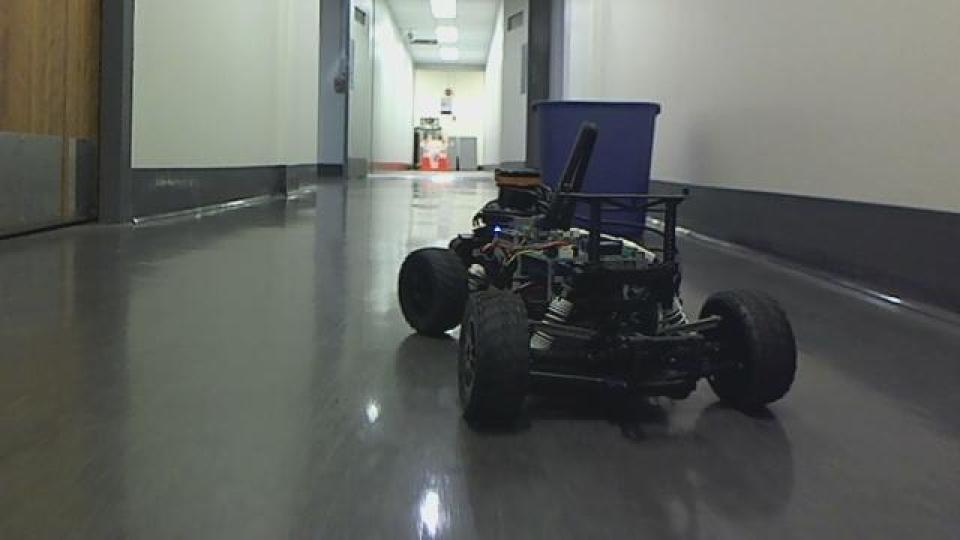car: (394, 102, 800, 436)
